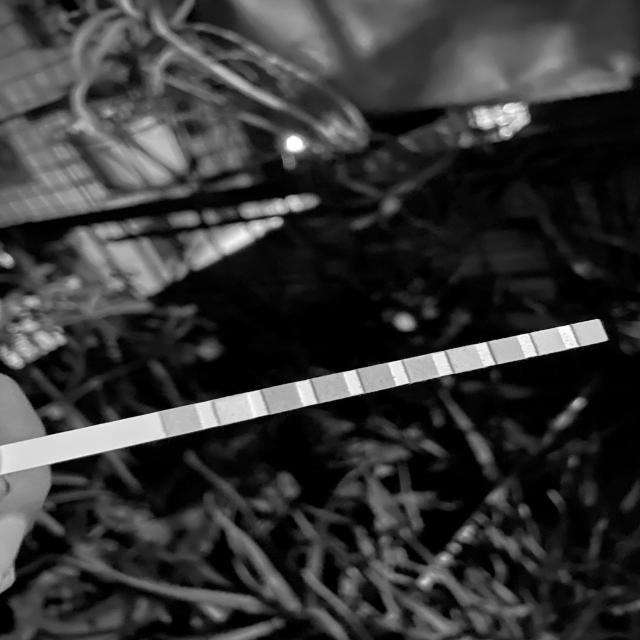Bilirubin: (222, 398, 248, 419)
Blood: (364, 368, 390, 388)
Glucose: (168, 411, 196, 432)
Ketone: (270, 388, 296, 409)
Leukocytes: (580, 323, 599, 343)
Nitrite: (539, 331, 558, 351)
Protein: (453, 350, 476, 369)
SpGravity: (321, 376, 342, 398)
Urobilinogen: (498, 339, 517, 361)
background: (0, 0, 640, 640)
pH: (412, 358, 431, 380)
strip: (3, 319, 610, 475)
